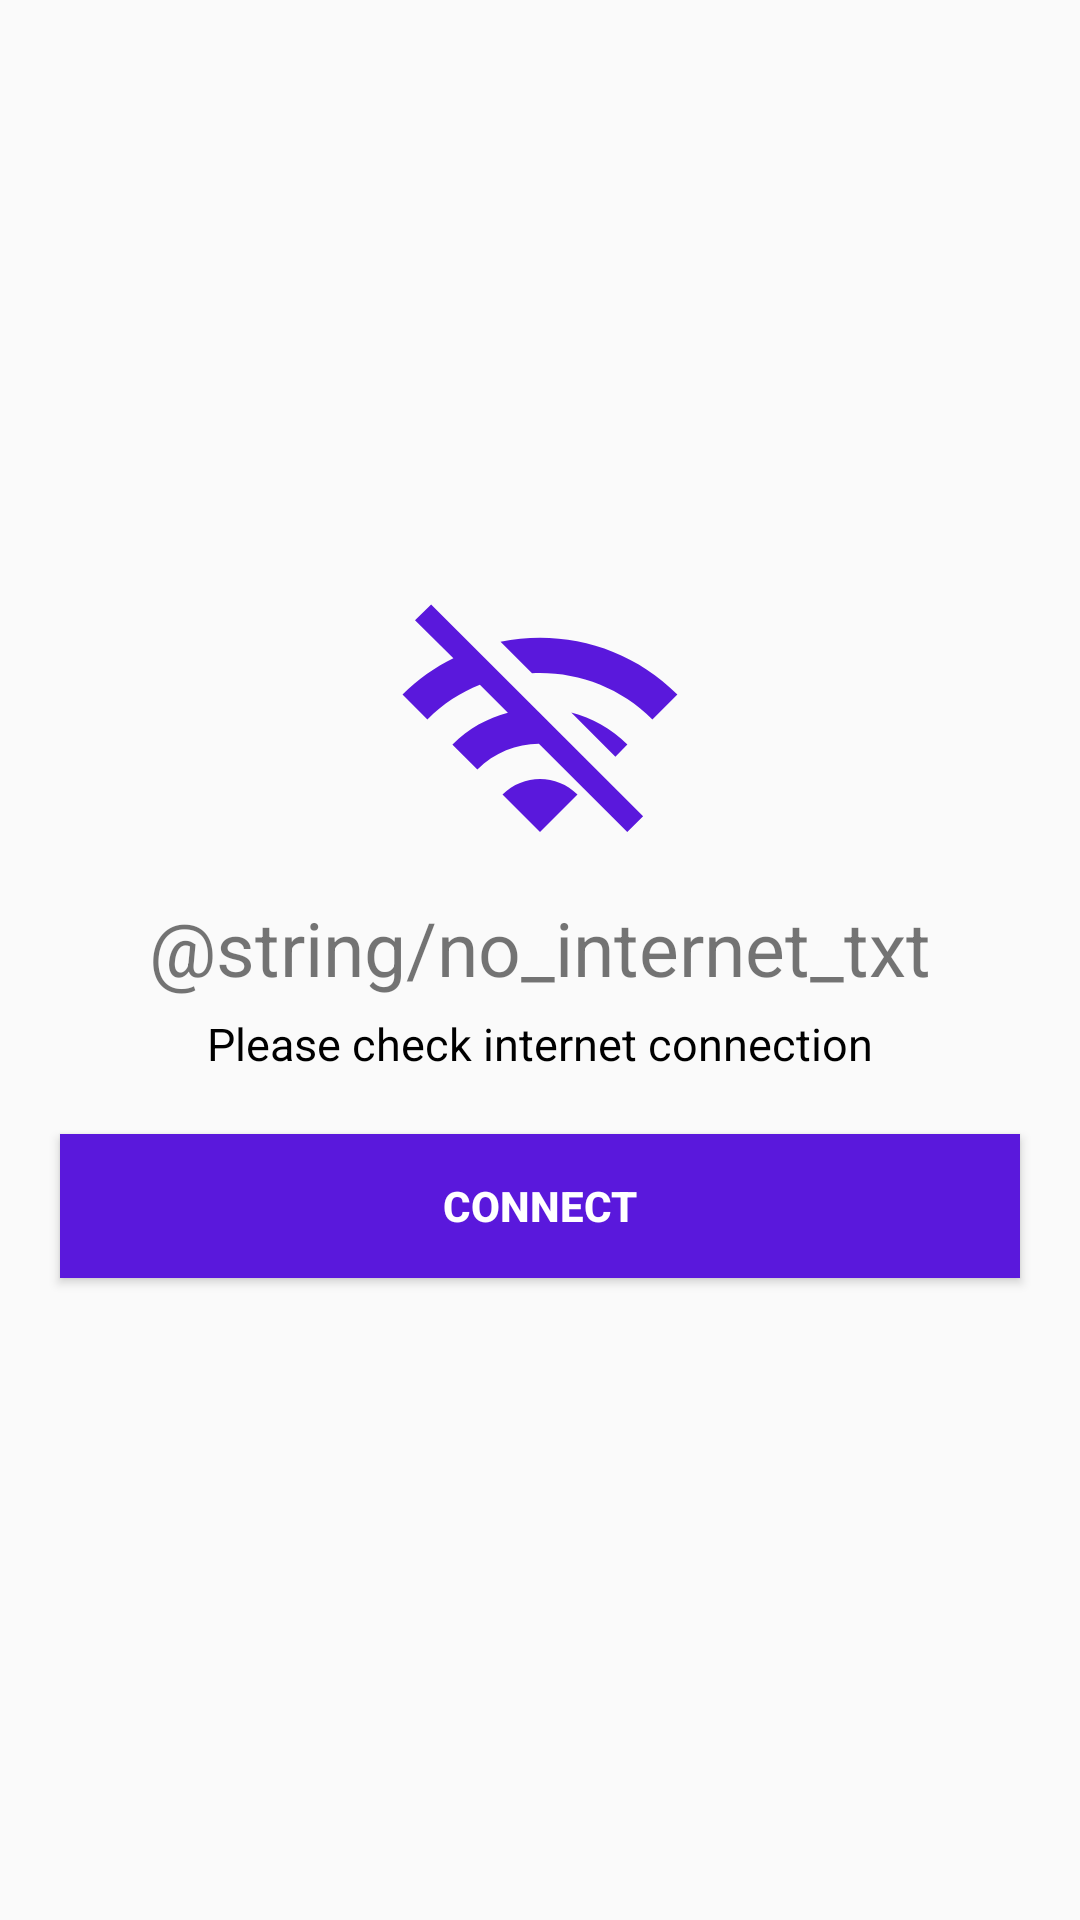

Named icons in this screenshot (1080px×1920px) and their bounding boxes, (x1, y1, x2, y2):
wifi not available: (402, 604, 678, 832)
